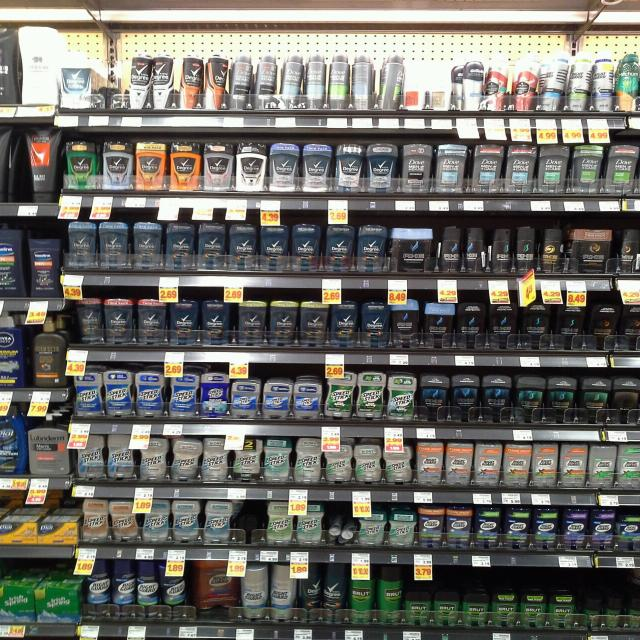empty: (96, 44, 130, 110), (225, 501, 268, 547)
